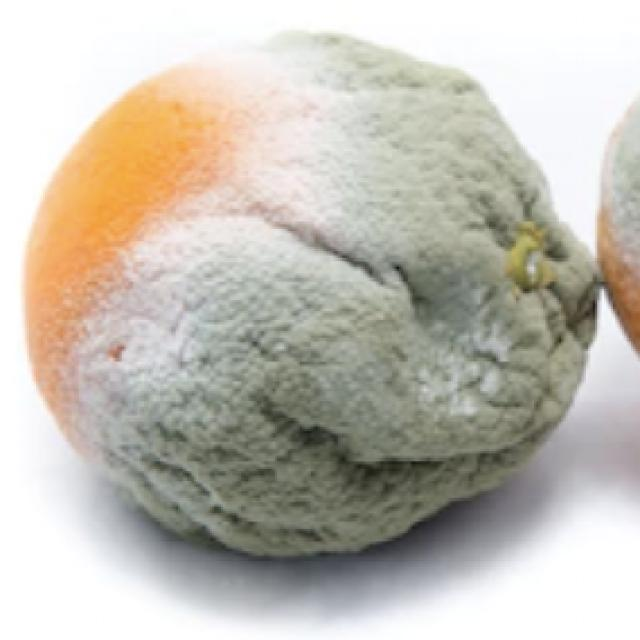rotten-orange: (24, 32, 602, 562)
